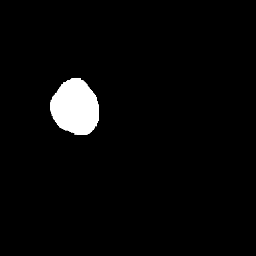mass: (51, 79, 107, 136)
